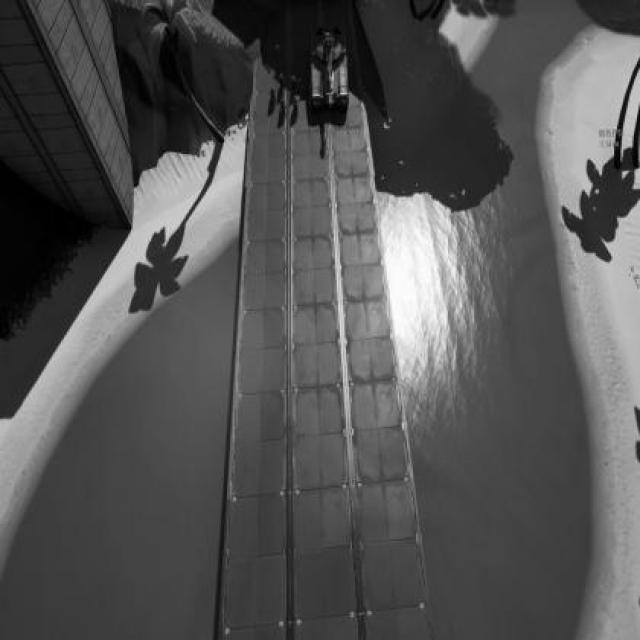tank: (310, 19, 350, 121)
